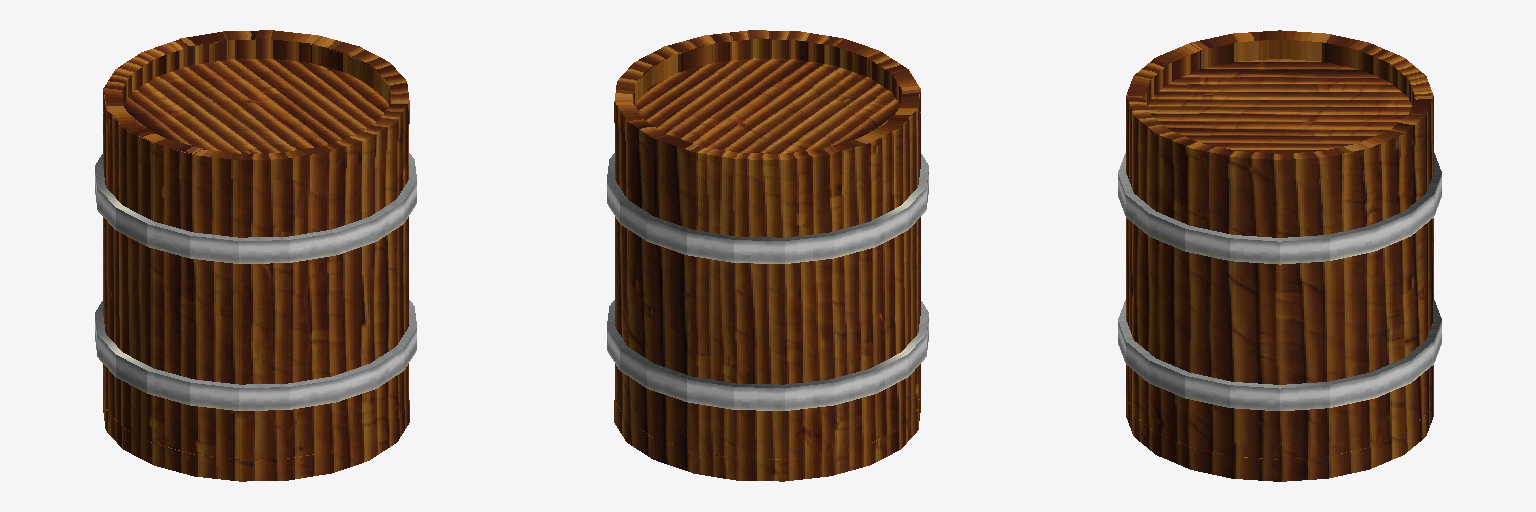
3 views of the same model, side by side, from view 1: azimuth 30°, elevation 25°; view 2: azimuth 150°, elevation 25°; view 3: azimuth 270°, elevation 25° (orthographic).
Parts seen in each view (by area): view 1: polySurface16; view 2: polySurface16; view 3: polySurface16.
Boxes of the visible parts, x1,y1,x2,y2 form: polySurface16: [95, 30, 416, 481]; polySurface16: [607, 30, 928, 481]; polySurface16: [1118, 30, 1441, 481].
Size of the model in its own units: 2.11 by 2.31 by 2.11.
2 materials, 2 textured.